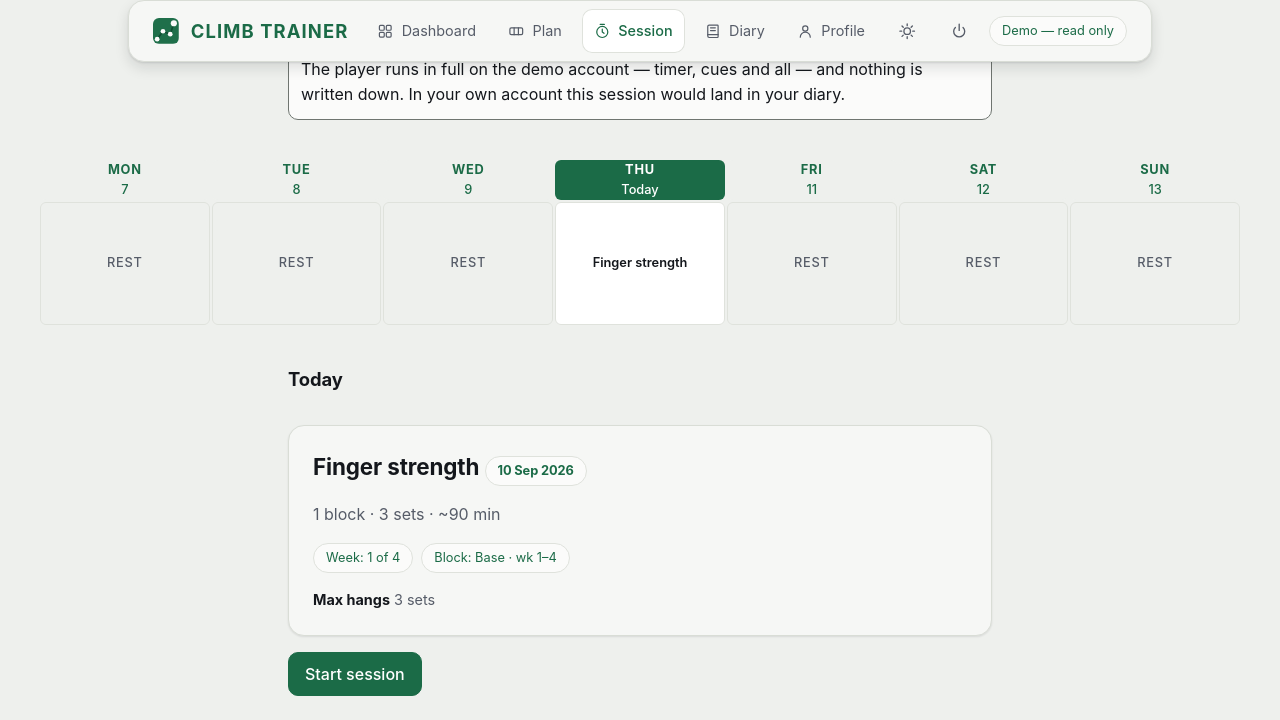
Test: writes NOTHING in demo scope, and the player still runs the whole session
(page scrolled)
What coordinates should you click on to do the following:
click the button "Start session"
I would click on:
 (355, 674)
Its box is [288,652,422,696].
Wait 60 ms
(page scrolled)
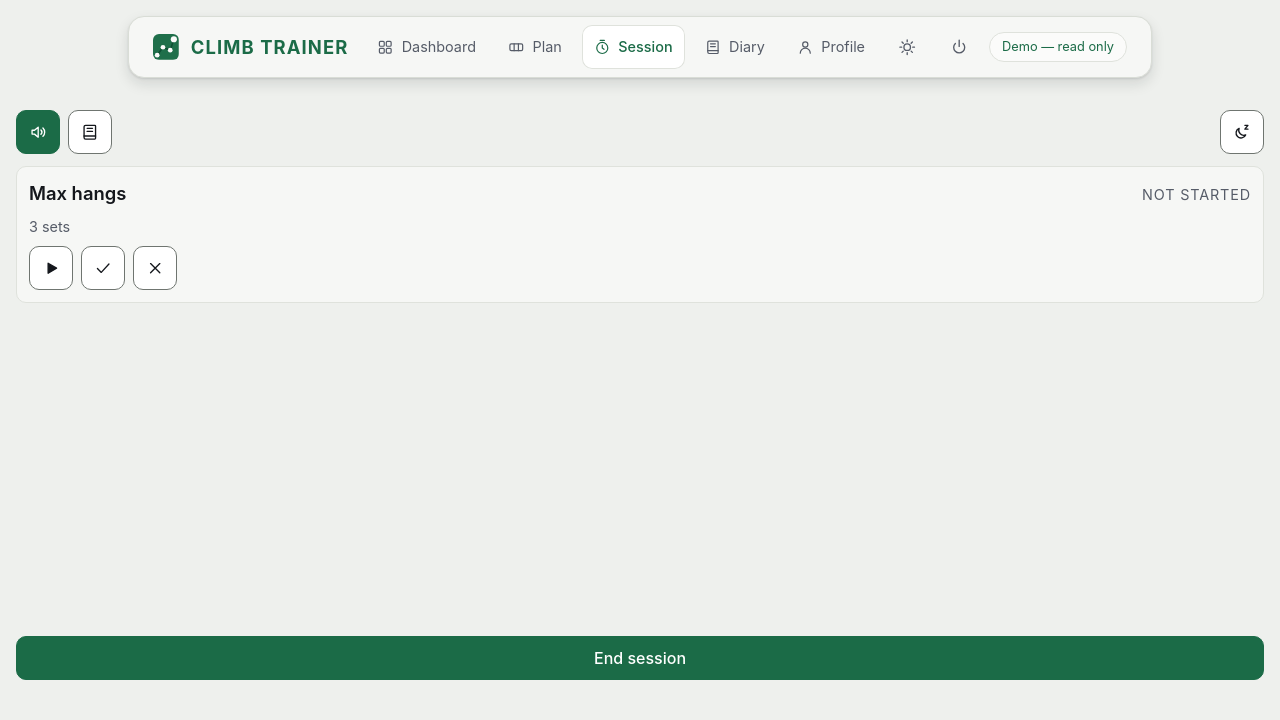
What coordinates should you click on to do the following:
click the button named "Start Max hangs"
I would click on:
 (51, 268)
Its box is [29,246,73,290].
Wait 120 ms
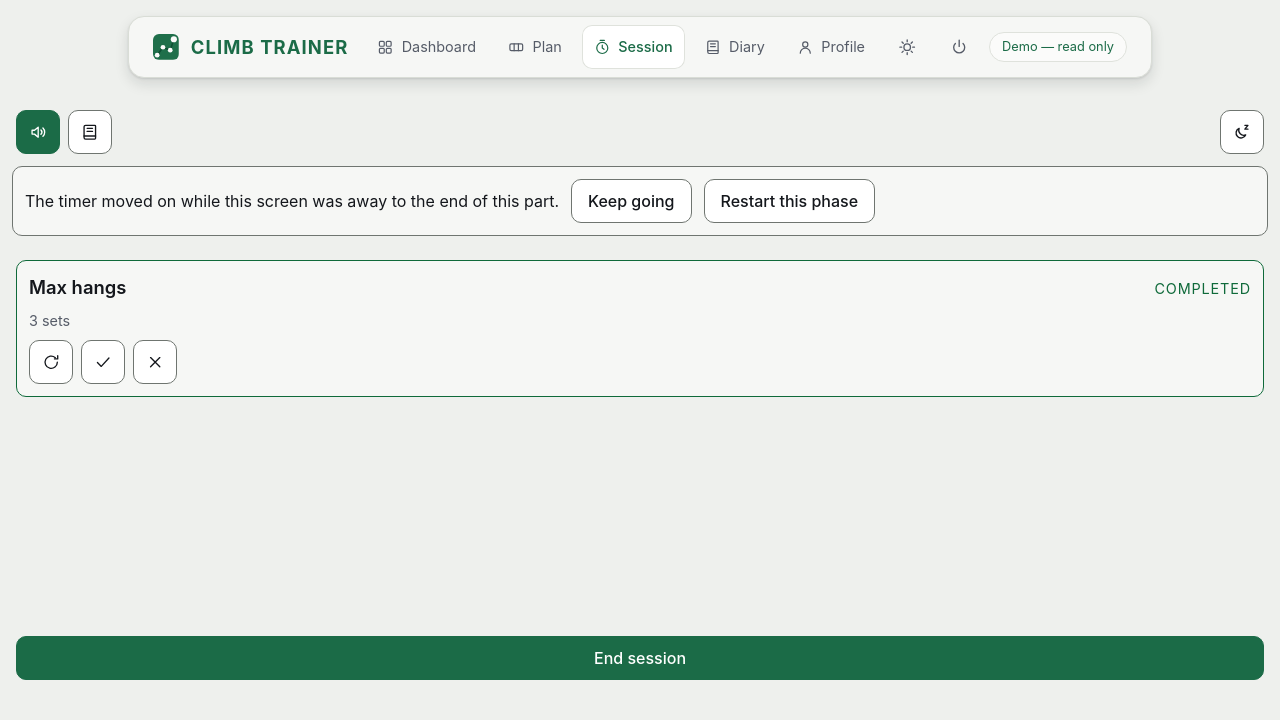
What coordinates should you click on to do the following:
click the button "End session"
I would click on:
 (640, 658)
Its box is [16,636,1264,680].
Wait 60 ms
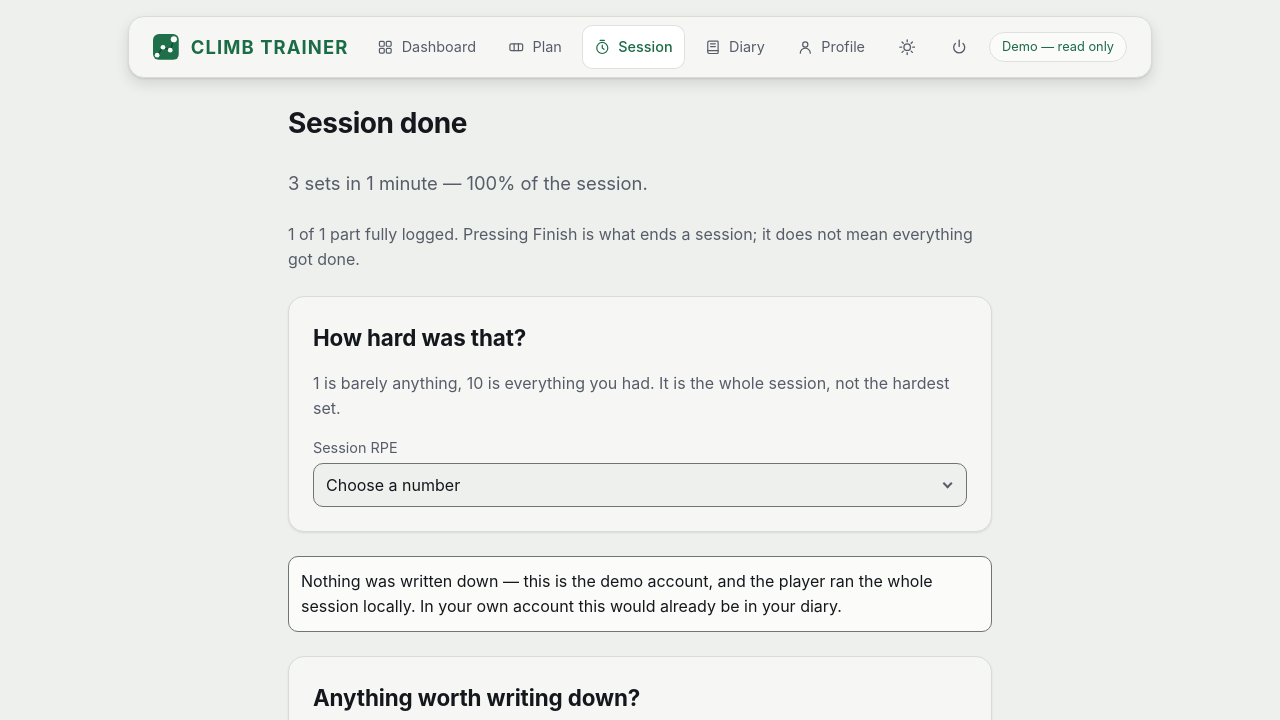
Expected: the heading "Session done" is shown, [288,106,467,140]
Expected: the text "Nothing was written down" is shown, [301,571,933,616]
Expected: the text "3 sets in 1 minute — 100% of the session." is shown, [288,172,648,194]
